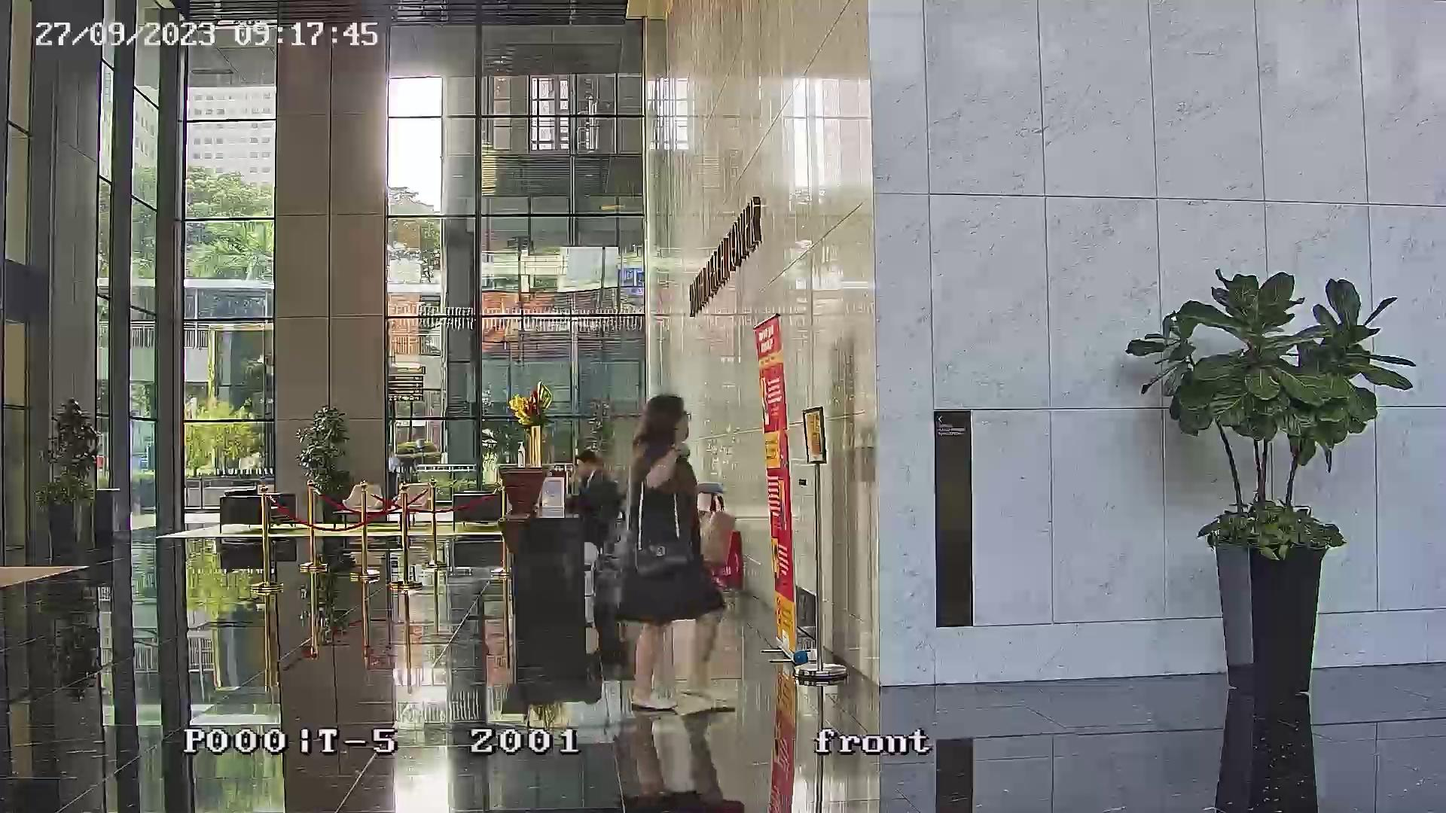person: (614, 394, 725, 713), (573, 451, 610, 525)
